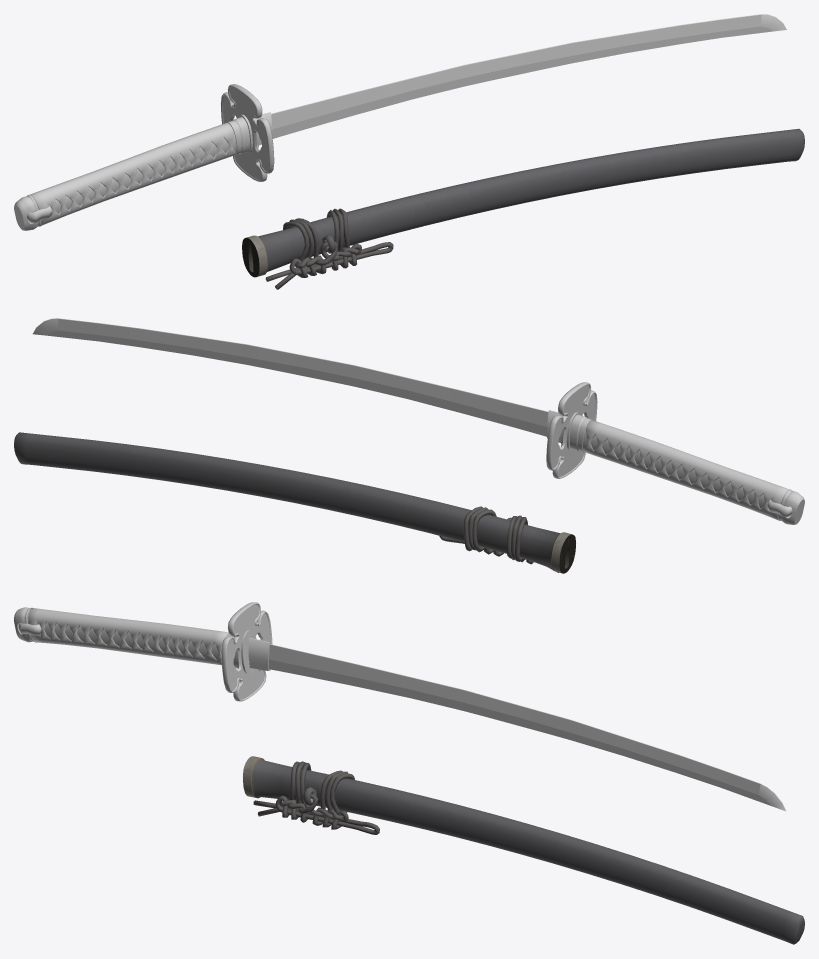
File: katana-rr.gltf
3 renders of one model, top to bottom at view 1: azimuth 30°, elevation 25°; view 2: azimuth 150°, elevation 25°; view 3: azimuth 330°, elevation 25°, orthographic.
Visible parts, largest first — view 1: scabbard_low_Scabbard_0.002, blade_low_Katana_0.002, handle_low_Katana_0.002, sageo_wrap_low_Scabbard_0.002, handguard_low_Katana_0.002, buttcap_low_Katana_0.002, metal_sleve_low_Katana_0.002; view 2: scabbard_low_Scabbard_0.002, blade_low_Katana_0.002, handle_low_Katana_0.002, handguard_low_Katana_0.002, sageo_wrap_low_Scabbard_0.002, buttcap_low_Katana_0.002, metal_sleve_low_Katana_0.002; view 3: scabbard_low_Scabbard_0.002, blade_low_Katana_0.002, handle_low_Katana_0.002, sageo_wrap_low_Scabbard_0.002, handguard_low_Katana_0.002, scabbard_sleve_low_Katana_0.002.
Part boxes in pixels (x1,y1,x2,y2): scabbard_low_Scabbard_0.002: (242, 128, 804, 277); blade_low_Katana_0.002: (271, 14, 786, 138); handle_low_Katana_0.002: (30, 122, 236, 225); sageo_wrap_low_Scabbard_0.002: (265, 208, 393, 289); handguard_low_Katana_0.002: (221, 84, 274, 181); buttcap_low_Katana_0.002: (14, 194, 41, 230); metal_sleve_low_Katana_0.002: (227, 117, 250, 155); scabbard_low_Scabbard_0.002: (14, 432, 575, 573); blade_low_Katana_0.002: (33, 318, 548, 436); handle_low_Katana_0.002: (583, 420, 788, 519); handguard_low_Katana_0.002: (546, 382, 597, 478); sageo_wrap_low_Scabbard_0.002: (439, 506, 558, 572); buttcap_low_Katana_0.002: (777, 489, 804, 524); metal_sleve_low_Katana_0.002: (569, 414, 592, 452); scabbard_low_Scabbard_0.002: (243, 756, 804, 944); blade_low_Katana_0.002: (269, 644, 785, 811); handle_low_Katana_0.002: (27, 608, 228, 665); sageo_wrap_low_Scabbard_0.002: (253, 761, 379, 834); handguard_low_Katana_0.002: (221, 602, 272, 701); scabbard_sleve_low_Katana_0.002: (248, 637, 270, 670).
Size of the model in its own units: 41.82 by 10.56 by 4.33.
